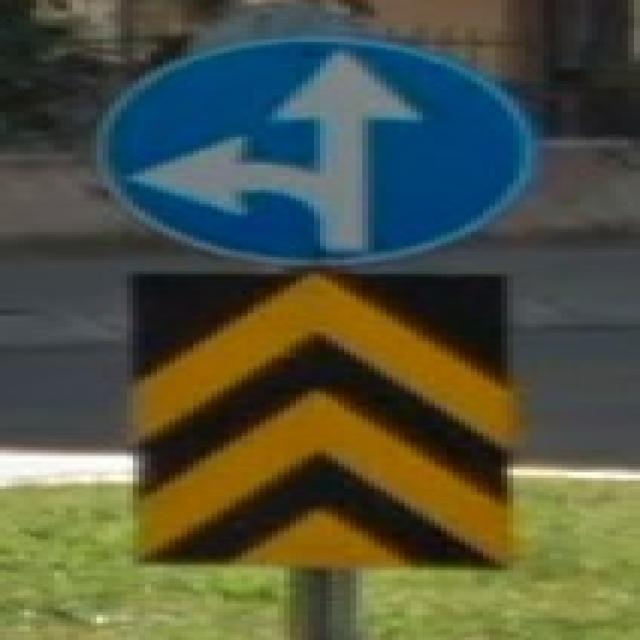Straight or Left: (95, 39, 529, 265)
